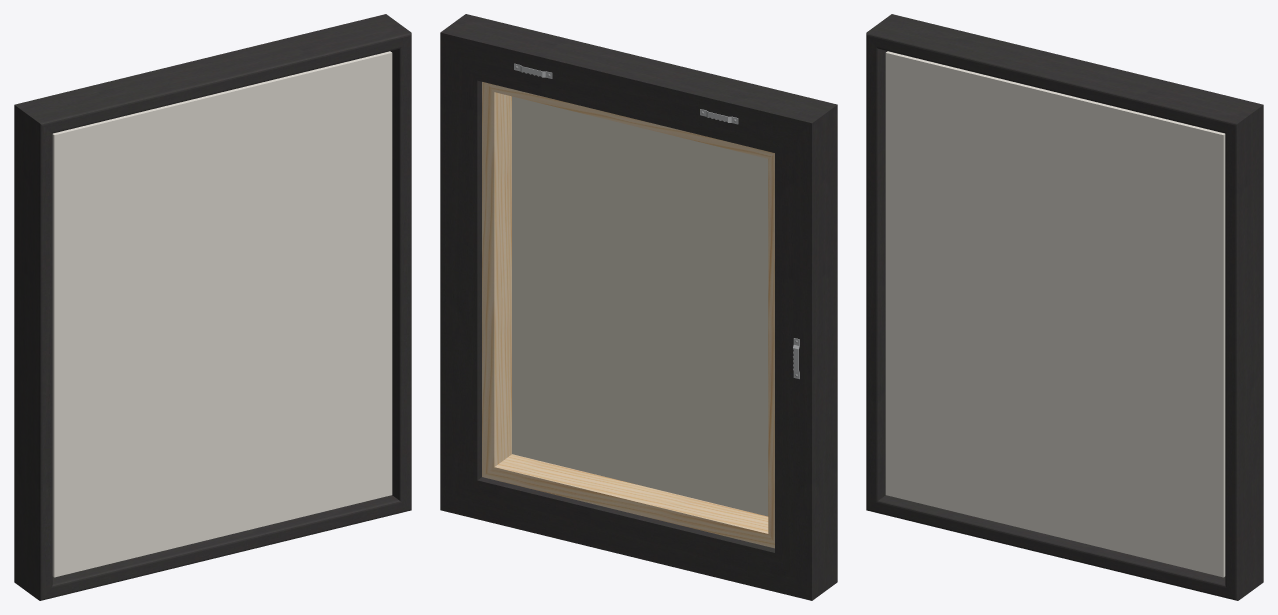
Rendered from delivery.glb.
The picture shows the model from 3 angles, left to right: view 1: azimuth 30°, elevation 25°; view 2: azimuth 150°, elevation 25°; view 3: azimuth 330°, elevation 25°; orthographic projection.
Visible parts, largest first — view 1: Canvas artwork front, Tray approved profile 0; view 2: Canvas linen reverse, Tray approved profile 0, Stretcher top, Sawtooth hanger 0; view 3: Canvas artwork front, Tray approved profile 0.
Part boxes in pixels (x1,y1,x2,y2): Canvas artwork front: (52,51,392,577); Tray approved profile 0: (14,14,411,600); Canvas linen reverse: (512,96,768,516); Tray approved profile 0: (440,14,837,600); Stretcher top: (482,82,774,548); Sawtooth hanger 0: (514,63,799,379); Canvas artwork front: (885,51,1225,577); Tray approved profile 0: (866,14,1263,600).
Bounding box in the file's own units: 0.44 × 0.54 × 0.0564.
7 materials, 3 textured.
